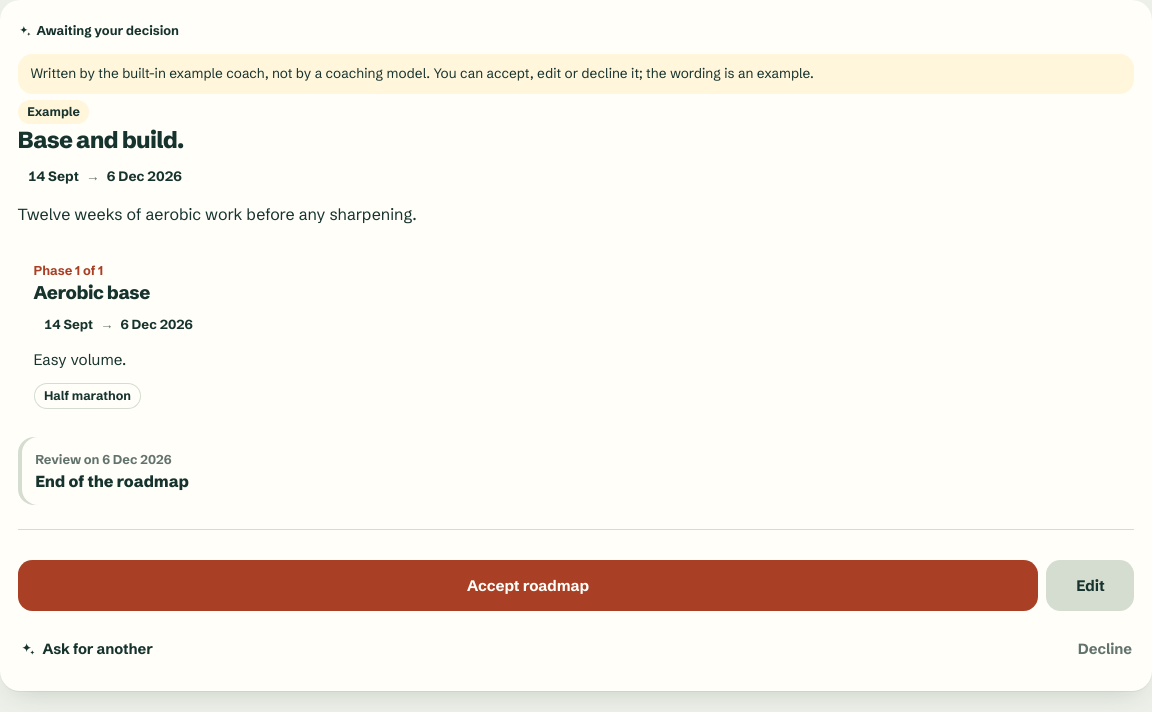
Test case: what the dock shows (owner, 14 Oct 2026) › asks what should change only after Ask for another is pressed
The width and height of the screenshot is (1152, 712).
Check: the field labelled "What should change?" is not shown
What coordinates should you click on to do the following:
click the button "Ask for another"
I would click on:
 (86, 649)
Its box is [18, 627, 155, 671].
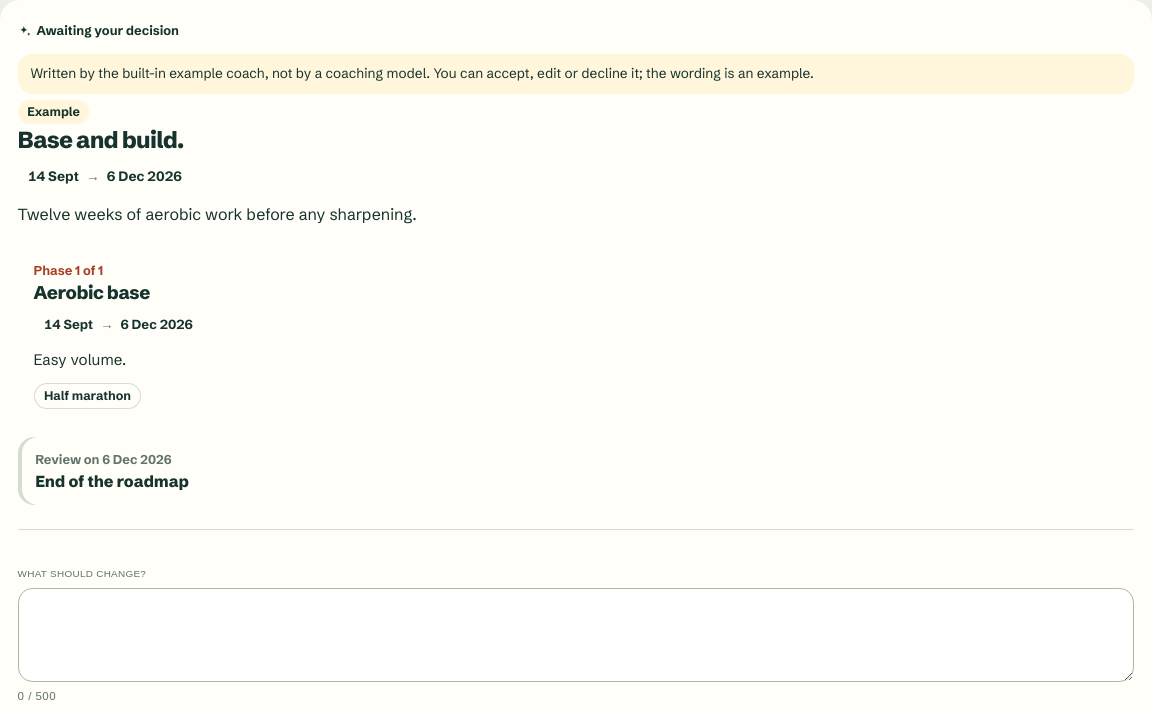
Check: the heading "Base and build." is shown, box [18, 125, 184, 154]
Check: the text box labelled "What should change?" is shown, box [18, 588, 1134, 682]
